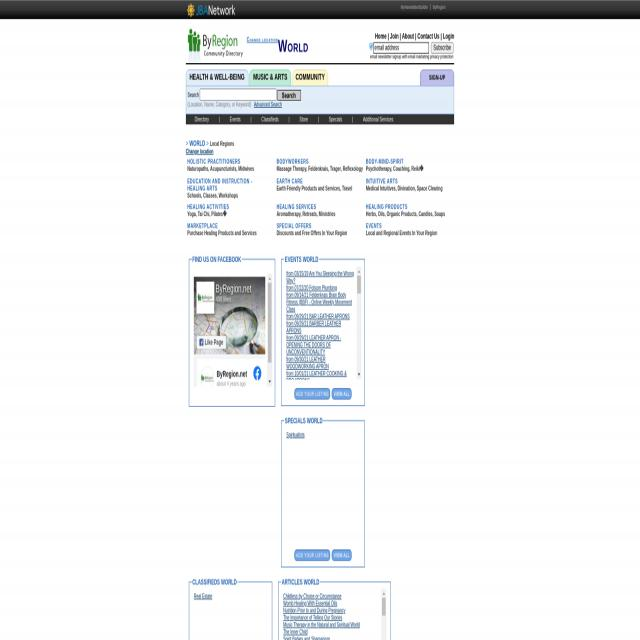button: (186, 27, 245, 63), (186, 69, 248, 85), (186, 0, 238, 16), (249, 69, 291, 85), (292, 69, 328, 85), (420, 70, 454, 85), (353, 115, 403, 124), (294, 388, 330, 400), (294, 549, 330, 561), (197, 336, 226, 349), (319, 114, 352, 124), (252, 115, 288, 124), (220, 114, 250, 124), (186, 115, 219, 124), (201, 367, 214, 389), (290, 114, 318, 124), (278, 90, 301, 101), (431, 42, 453, 53), (268, 283, 271, 363), (332, 388, 352, 400), (332, 549, 352, 561), (254, 366, 262, 380), (357, 276, 361, 294), (382, 598, 386, 616), (368, 42, 374, 51), (356, 267, 362, 275), (267, 378, 272, 387), (267, 274, 272, 282), (382, 589, 386, 597), (357, 372, 361, 378)
field: (200, 89, 276, 100), (374, 42, 429, 54)
